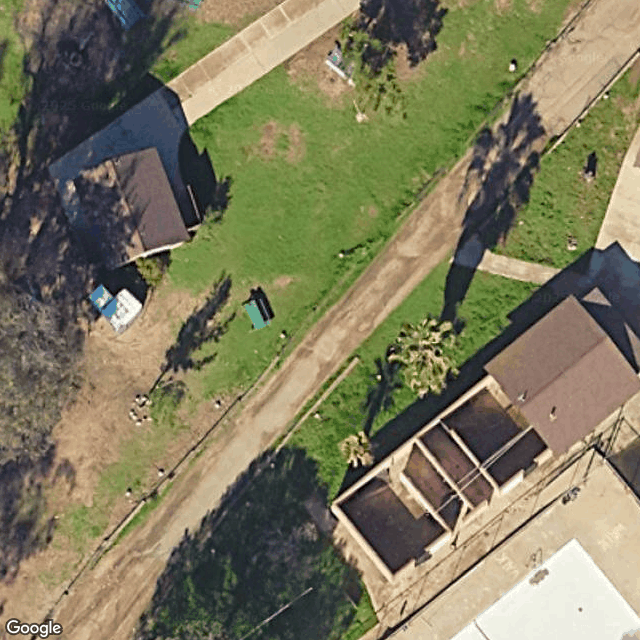palm: (385, 314, 466, 406), (330, 424, 382, 472)
